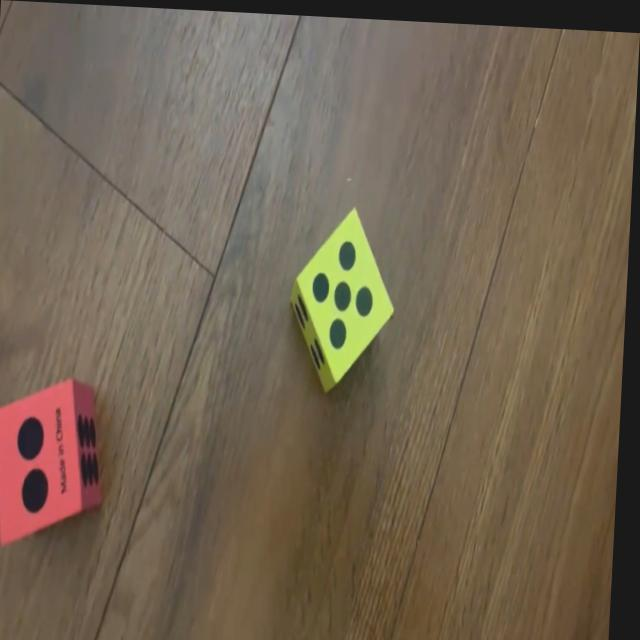red_block: (0, 377, 112, 548)
